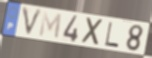4: (62, 15, 80, 44)
8: (125, 24, 145, 53)
L: (104, 21, 120, 49)
M: (38, 11, 63, 41)
V: (21, 6, 45, 39)
X: (81, 16, 106, 48)
